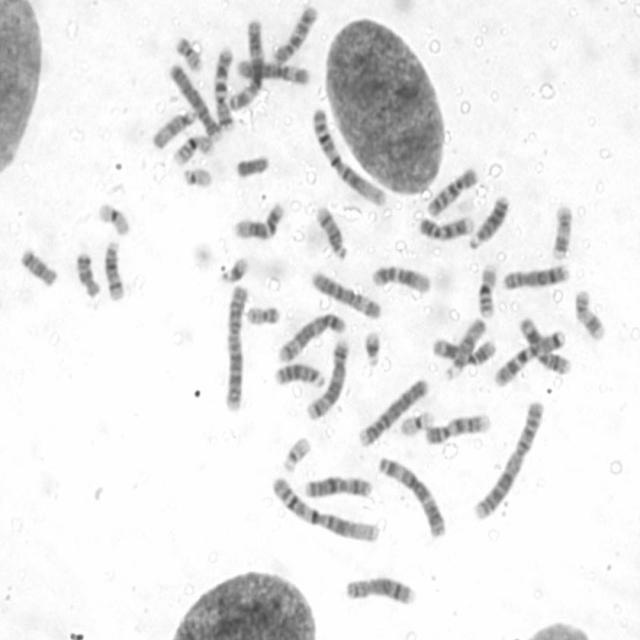A1: (311, 106, 389, 210), (271, 474, 381, 544)
A2: (472, 398, 546, 524), (223, 281, 248, 412)
A3: (378, 454, 448, 539), (227, 16, 264, 113)
B4: (358, 376, 428, 449), (168, 62, 222, 142)
B5: (303, 338, 351, 423), (278, 313, 348, 367)
C10: (272, 5, 320, 65), (425, 167, 481, 218)
C11: (519, 315, 572, 376), (432, 336, 496, 368)
C12: (229, 200, 287, 242), (371, 264, 432, 296)
C6: (311, 269, 382, 320), (233, 58, 310, 87)
C7: (493, 330, 570, 388), (212, 46, 237, 130)
C8: (346, 573, 414, 606), (502, 264, 571, 295)
C9: (424, 411, 490, 447), (417, 213, 474, 241)
D13: (468, 194, 511, 250), (272, 363, 325, 391)
D14: (315, 202, 350, 262), (104, 239, 126, 302)
D15: (444, 316, 487, 381), (150, 109, 197, 149)
E16: (476, 260, 499, 318), (172, 134, 216, 164)
E17: (573, 288, 608, 342), (550, 203, 574, 262)
E18: (20, 245, 57, 289), (76, 250, 100, 298)
F19: (96, 201, 130, 236), (399, 409, 436, 439)
F20: (174, 36, 203, 72), (244, 305, 281, 327)
G21: (363, 329, 385, 371), (219, 256, 250, 285)
G22: (281, 435, 312, 471), (182, 168, 212, 188)
X: (304, 474, 374, 498)
Y: (235, 154, 272, 178)
